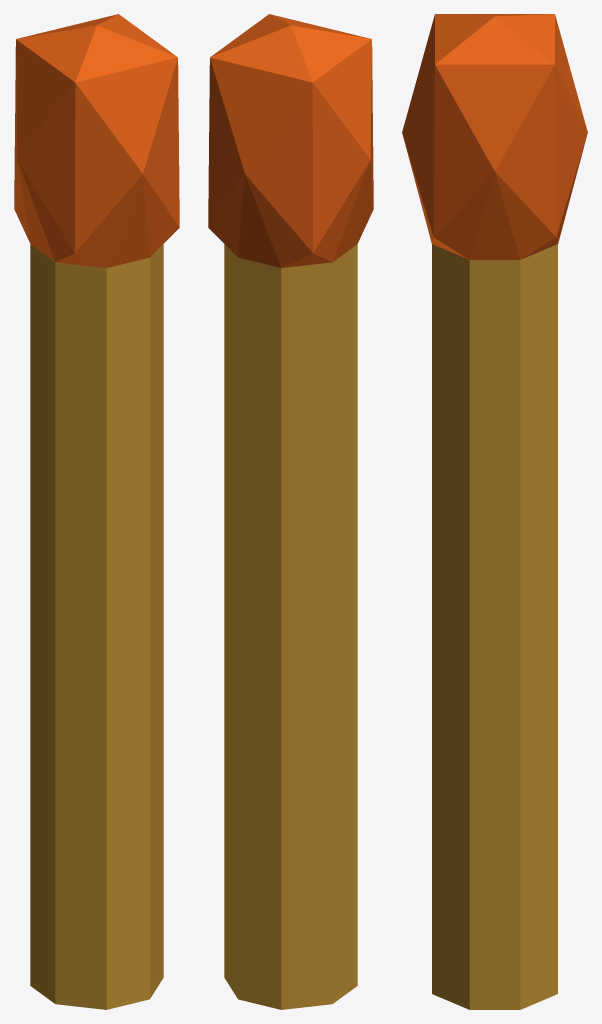
The model's file is vLever_New.fbx.
The picture shows the model from 3 angles, left to right: view 1: azimuth 30°, elevation 25°; view 2: azimuth 150°, elevation 25°; view 3: azimuth 270°, elevation 25°; orthographic projection.
Visible parts, largest first — view 1: pCube74; view 2: pCube74; view 3: pCube74.
Part boxes in pixels (x1=…): pCube74: x1=14, y1=14, x2=179, y2=1009; pCube74: x1=208, y1=14, x2=373, y2=1009; pCube74: x1=402, y1=14, x2=587, y2=1009.
Bounding box in the file's own units: 0.8594 × 4.93 × 0.8594.
